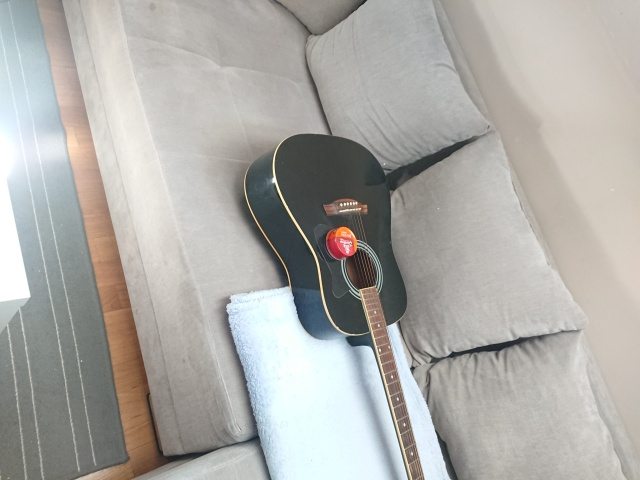Gavrilovic Pork Liver Pate 100g: (323, 224, 358, 261)
